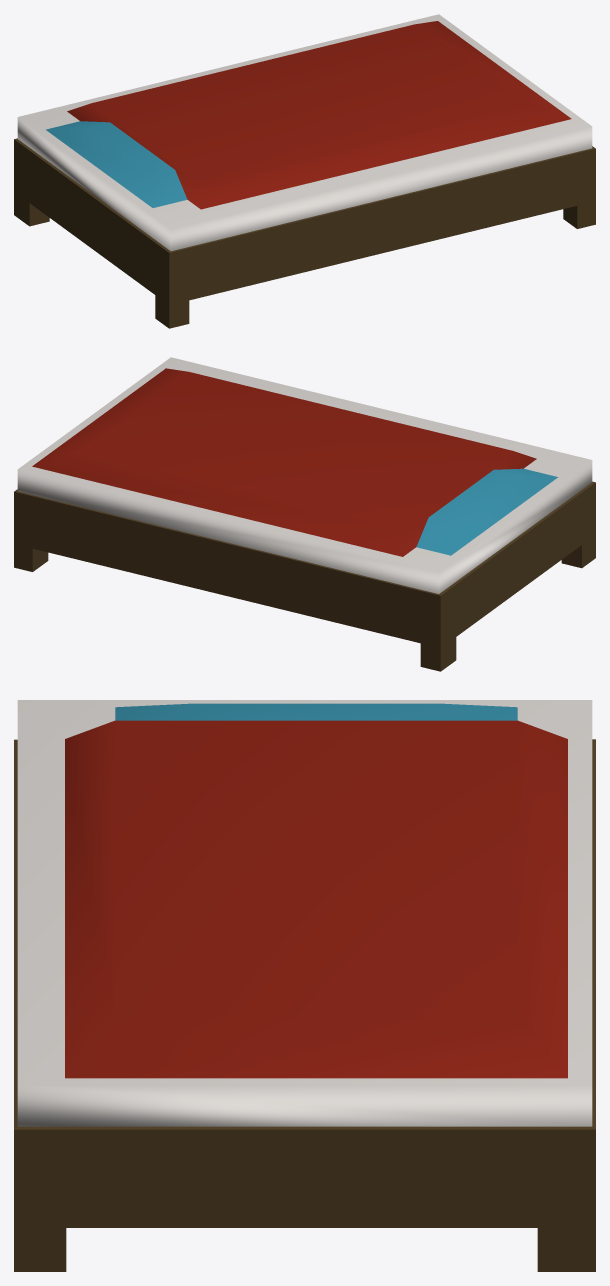
Rendered from Bed_01.fbx.
3 renders of one model, top to bottom at view 1: azimuth 30°, elevation 25°; view 2: azimuth 150°, elevation 25°; view 3: azimuth 270°, elevation 25°, orthographic. The views are drawn at different scales.
Parts seen in each view (by area): view 1: Bed; view 2: Bed; view 3: Bed.
Boxes of the visible parts, x1=… form: Bed: x1=14, y1=14, x2=595, y2=328; Bed: x1=14, y1=357, x2=595, y2=671; Bed: x1=14, y1=700, x2=595, y2=1271.
Size of the model in its own units: 3.13 by 0.7934 by 1.97.
